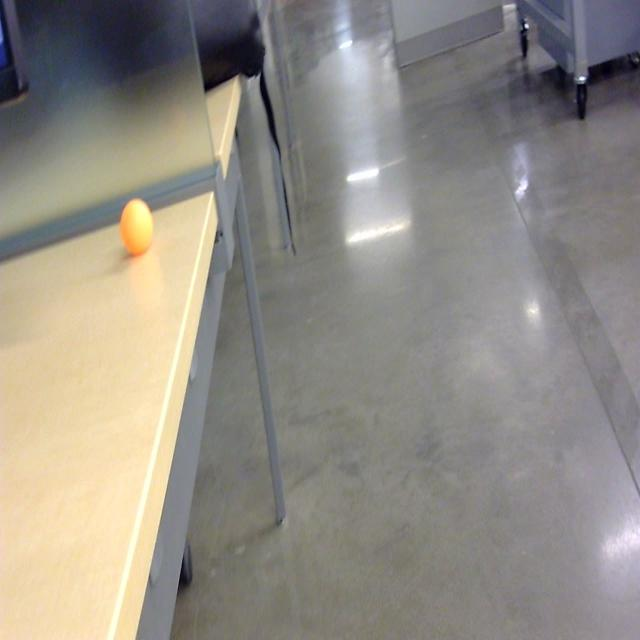ball: (121, 197, 155, 256)
